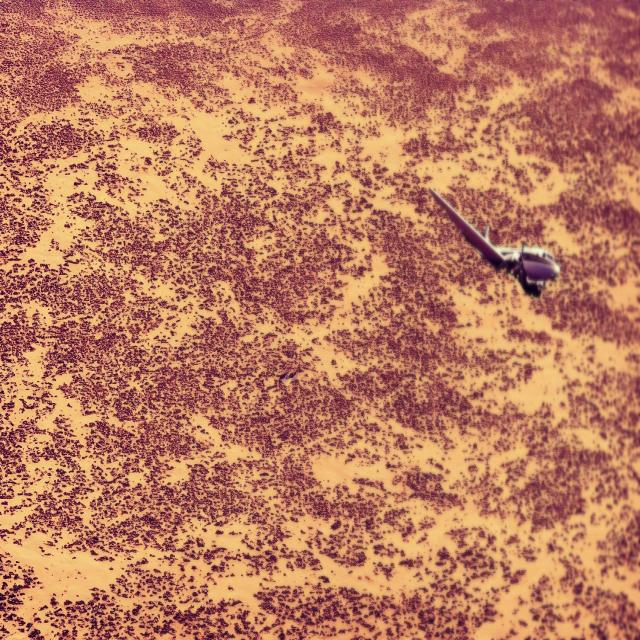airplane: (429, 186, 560, 298)
